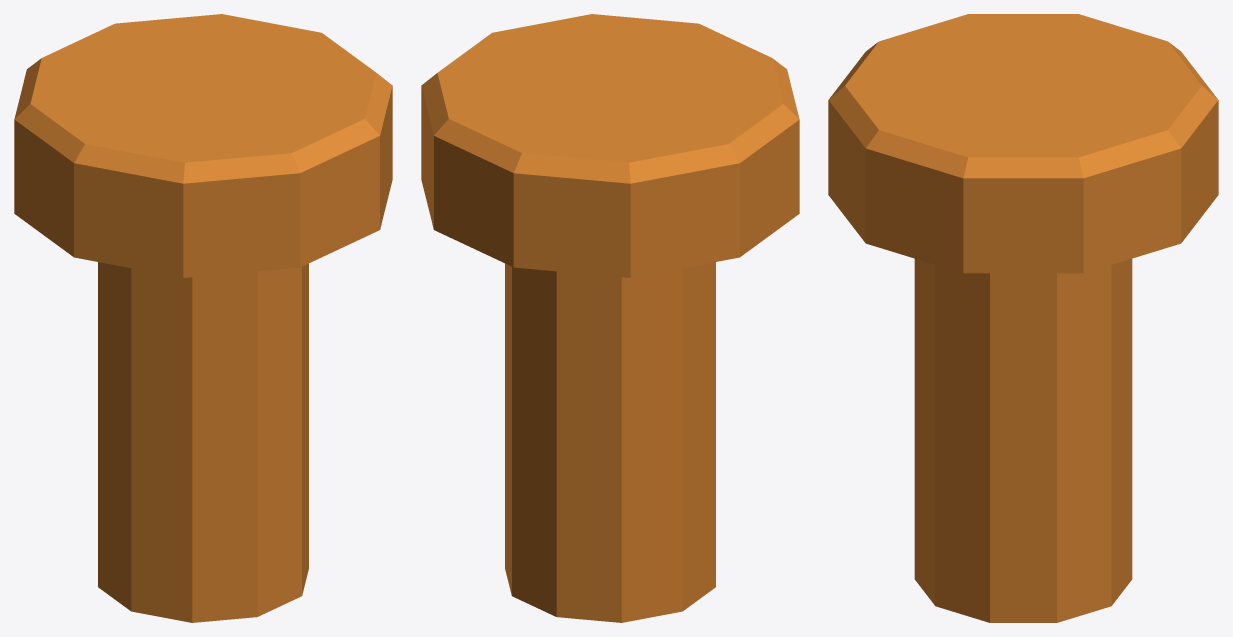
The model's file is mesh_Screw.fbx.
3 views of the same model, side by side, from view 1: azimuth 30°, elevation 25°; view 2: azimuth 150°, elevation 25°; view 3: azimuth 270°, elevation 25° (orthographic).
Parts seen in each view (by area): view 1: Screw; view 2: Screw; view 3: Screw.
Boxes of the visible parts, <box> form: Screw: <box>14,14,392,622</box>; Screw: <box>421,14,799,622</box>; Screw: <box>828,14,1218,622</box>.
Size of the model in its own units: 0.6812 by 1 by 0.7163.
